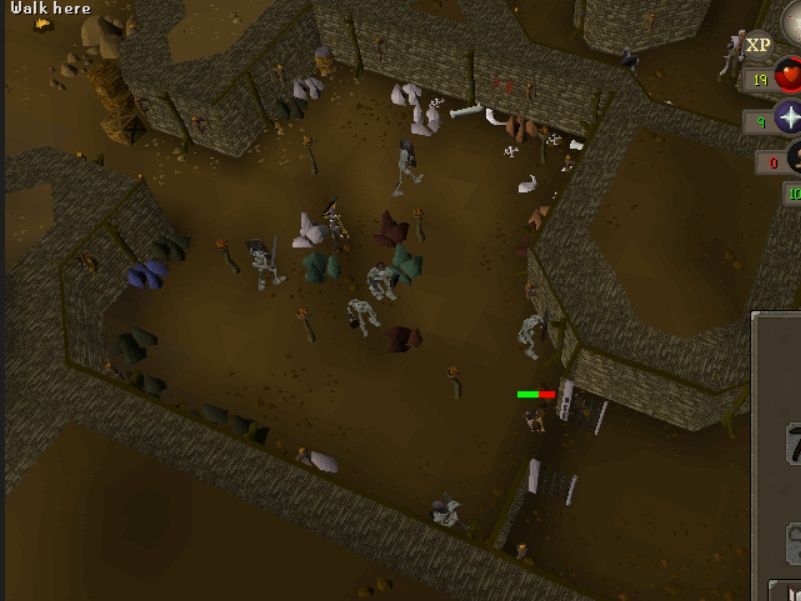adamant: (380, 241, 428, 287), (299, 246, 347, 289)
coal: (110, 323, 163, 366), (150, 229, 193, 267), (227, 413, 275, 446), (185, 401, 231, 430), (270, 94, 310, 123), (128, 370, 168, 399)
copper: (501, 108, 542, 149)
iron: (369, 208, 414, 253), (383, 314, 428, 359)
mithril: (124, 258, 170, 293)
silver: (288, 208, 332, 251), (404, 99, 446, 140), (387, 78, 428, 106)
tin: (291, 73, 328, 105)
